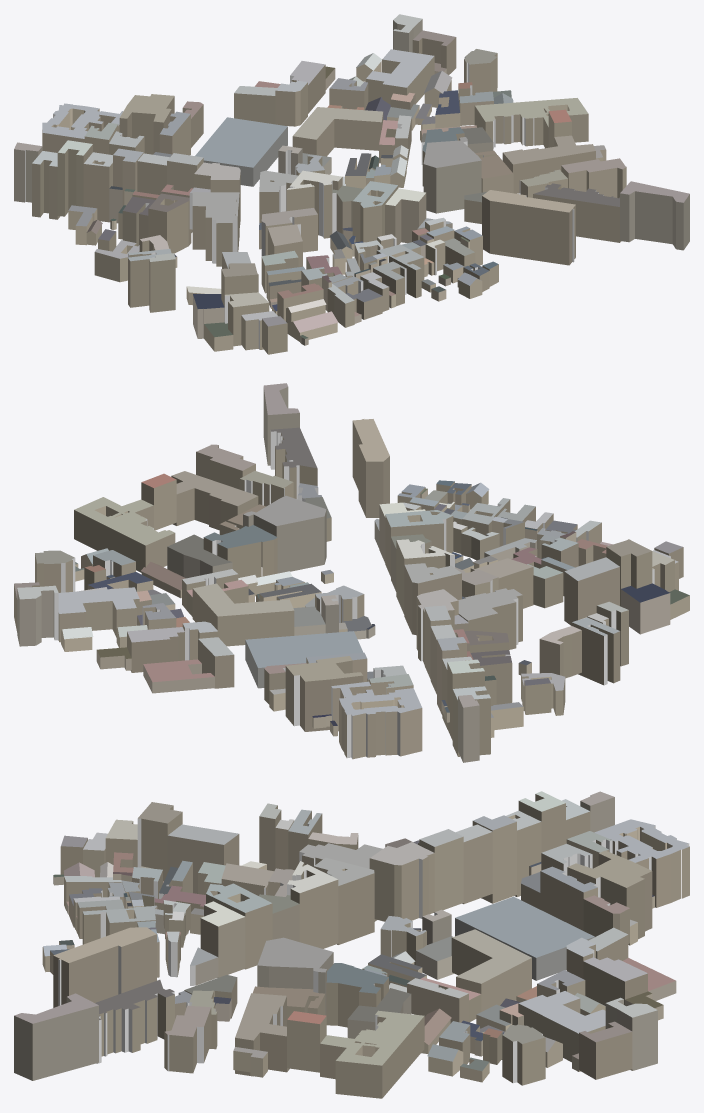
The picture shows the model from 3 angles, top to bottom: view 1: azimuth 30°, elevation 25°; view 2: azimuth 150°, elevation 25°; view 3: azimuth 270°, elevation 25°; orthographic projection. The views are drawn at different scales.
Parts seen in each view (by area): view 1: tuile; view 2: tuile; view 3: tuile.
Part boxes in pixels (bbox=[...]): tuile: bbox=[14, 14, 689, 354]; tuile: bbox=[14, 383, 689, 762]; tuile: bbox=[14, 791, 689, 1098].
Size of the model in its own units: 281 by 50.86 by 284.
